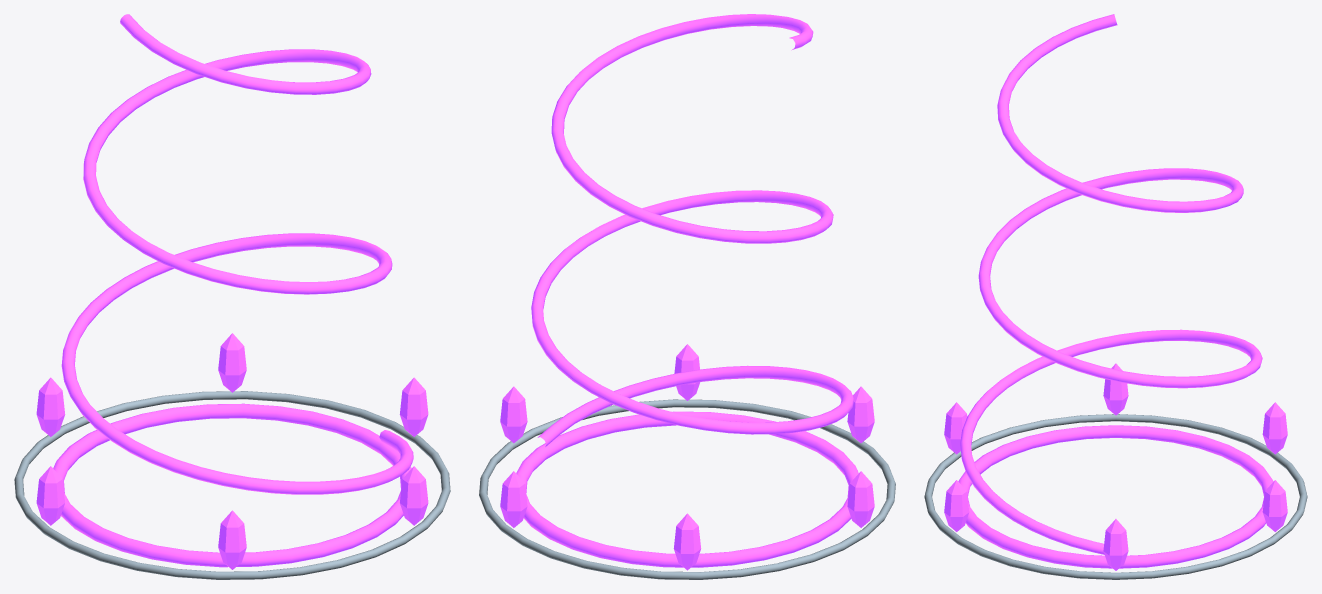
File: moonsteel-convergence-recall-helix-5cb2dffc__18212.glb
3 views of the same model, side by side, from view 1: azimuth 30°, elevation 25°; view 2: azimuth 150°, elevation 25°; view 3: azimuth 270°, elevation 25° (orthographic). The views are drawn at different scales.
Visible parts, largest first — view 1: recall-helix; view 2: recall-helix; view 3: recall-helix.
Boxes of the visible parts, x1=… form: recall-helix: x1=14, y1=14, x2=450, y2=579; recall-helix: x1=479, y1=14, x2=895, y2=579; recall-helix: x1=924, y1=14, x2=1307, y2=579.
Bounding box in the file's own units: 2.01 × 2.52 × 1.98.
